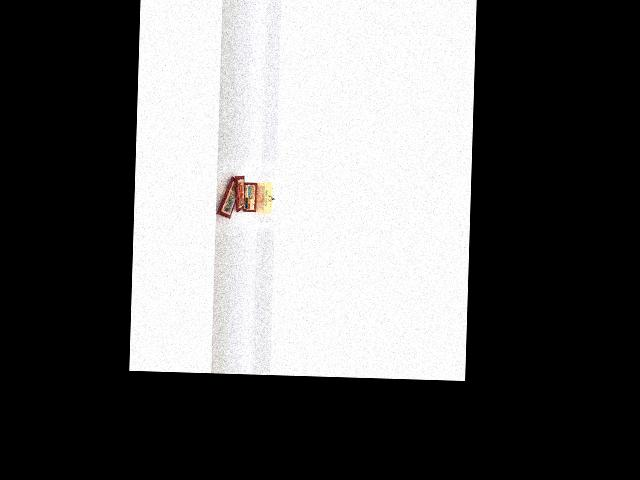chocolate: (213, 173, 239, 227)
